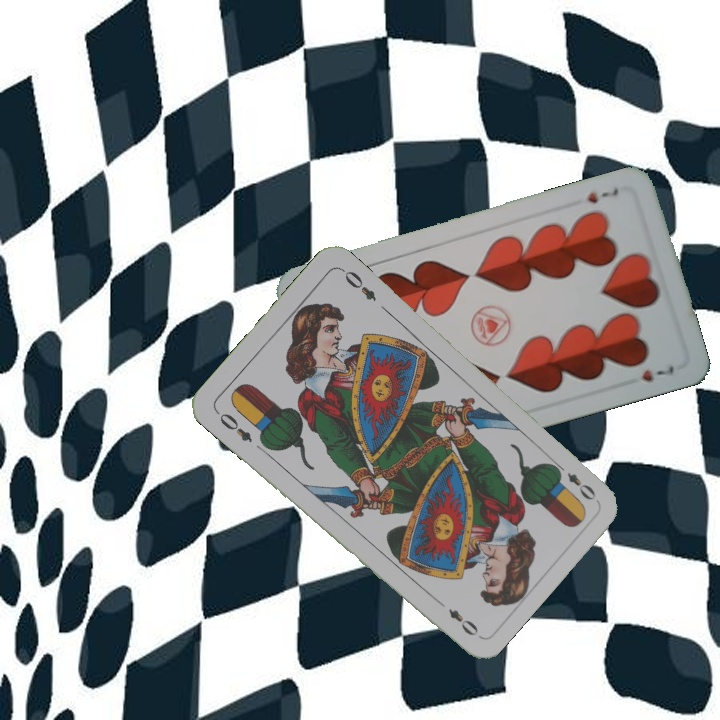EO: (550, 458, 599, 503), (211, 407, 255, 445)
H7: (583, 184, 621, 206)
